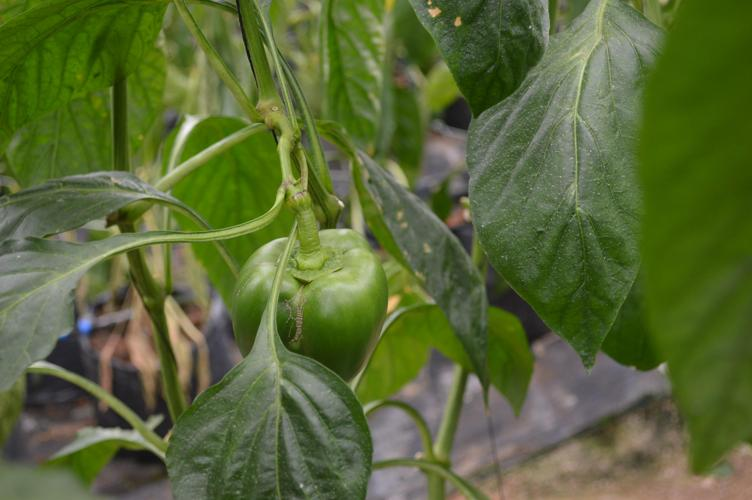BellPepper: (212, 227, 393, 393)
